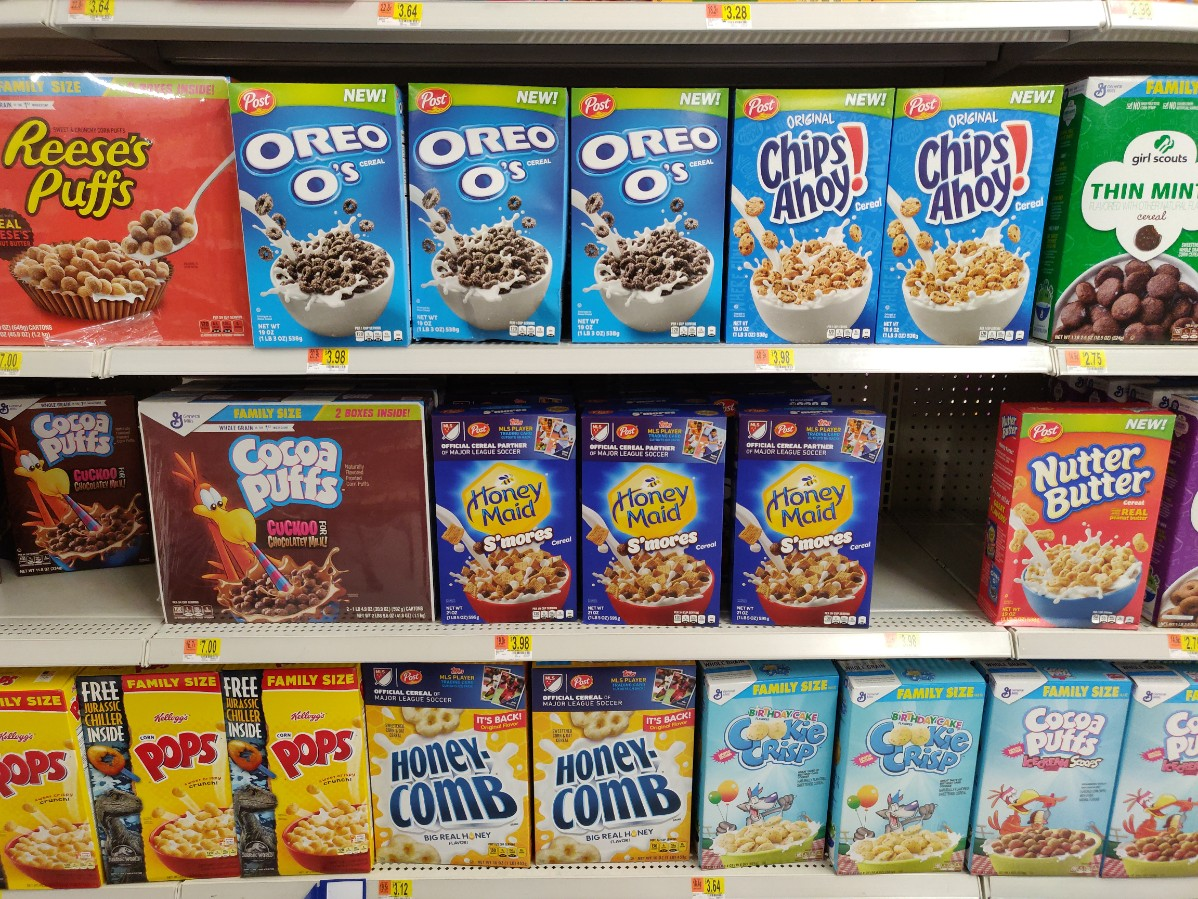Chips Ahoys-565717529: (890, 86, 1066, 348), (732, 82, 873, 343)
Honey Comb- 009288857: (363, 661, 535, 869), (535, 667, 698, 875)
Oreo-563424384: (230, 84, 421, 347), (408, 82, 564, 351), (566, 81, 717, 351)
